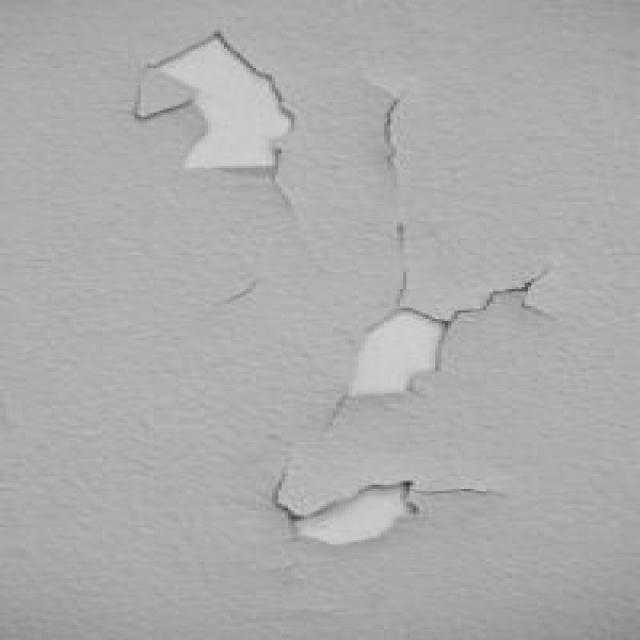peeling paint: (122, 24, 571, 554)
